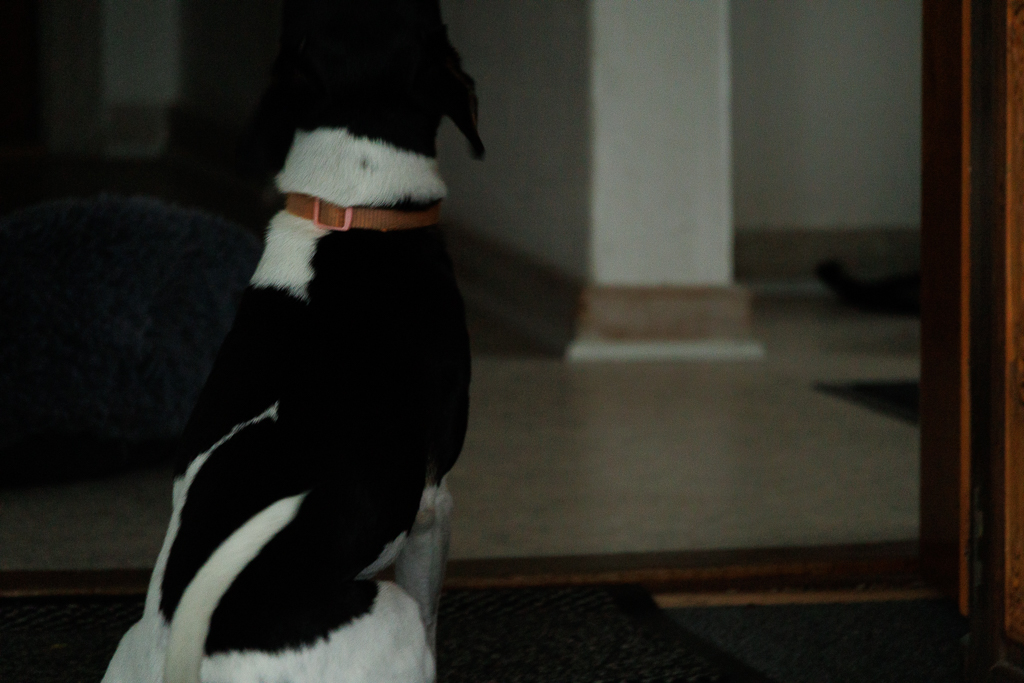Dog: (86, 0, 507, 683)
